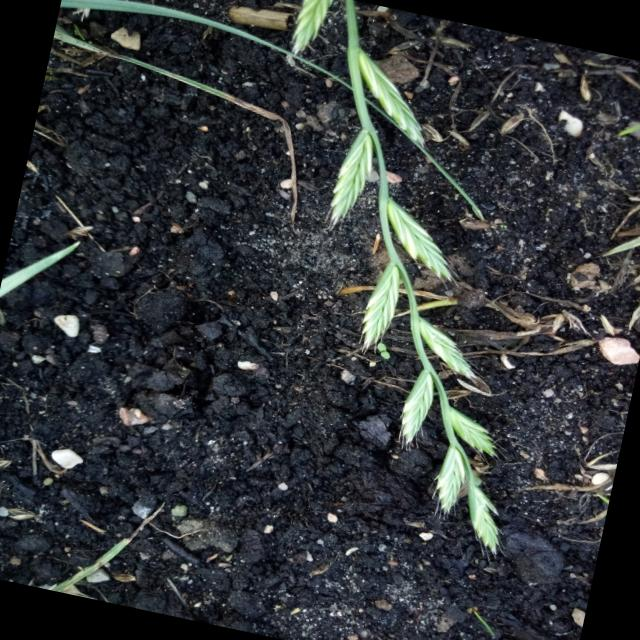Lolium: (230, 0, 610, 559)
